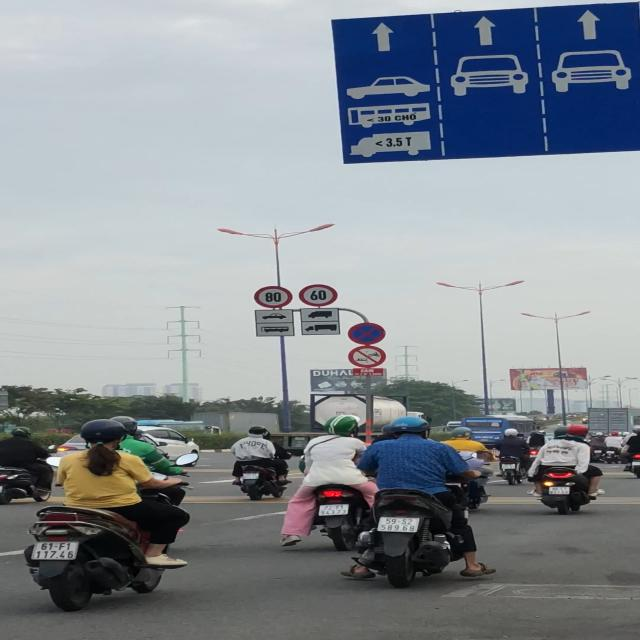Bien bao cam dung xe va do xe: (348, 322, 388, 346)
Bien bao toc do toi da cho phep: (298, 284, 337, 307), (254, 286, 292, 308)
